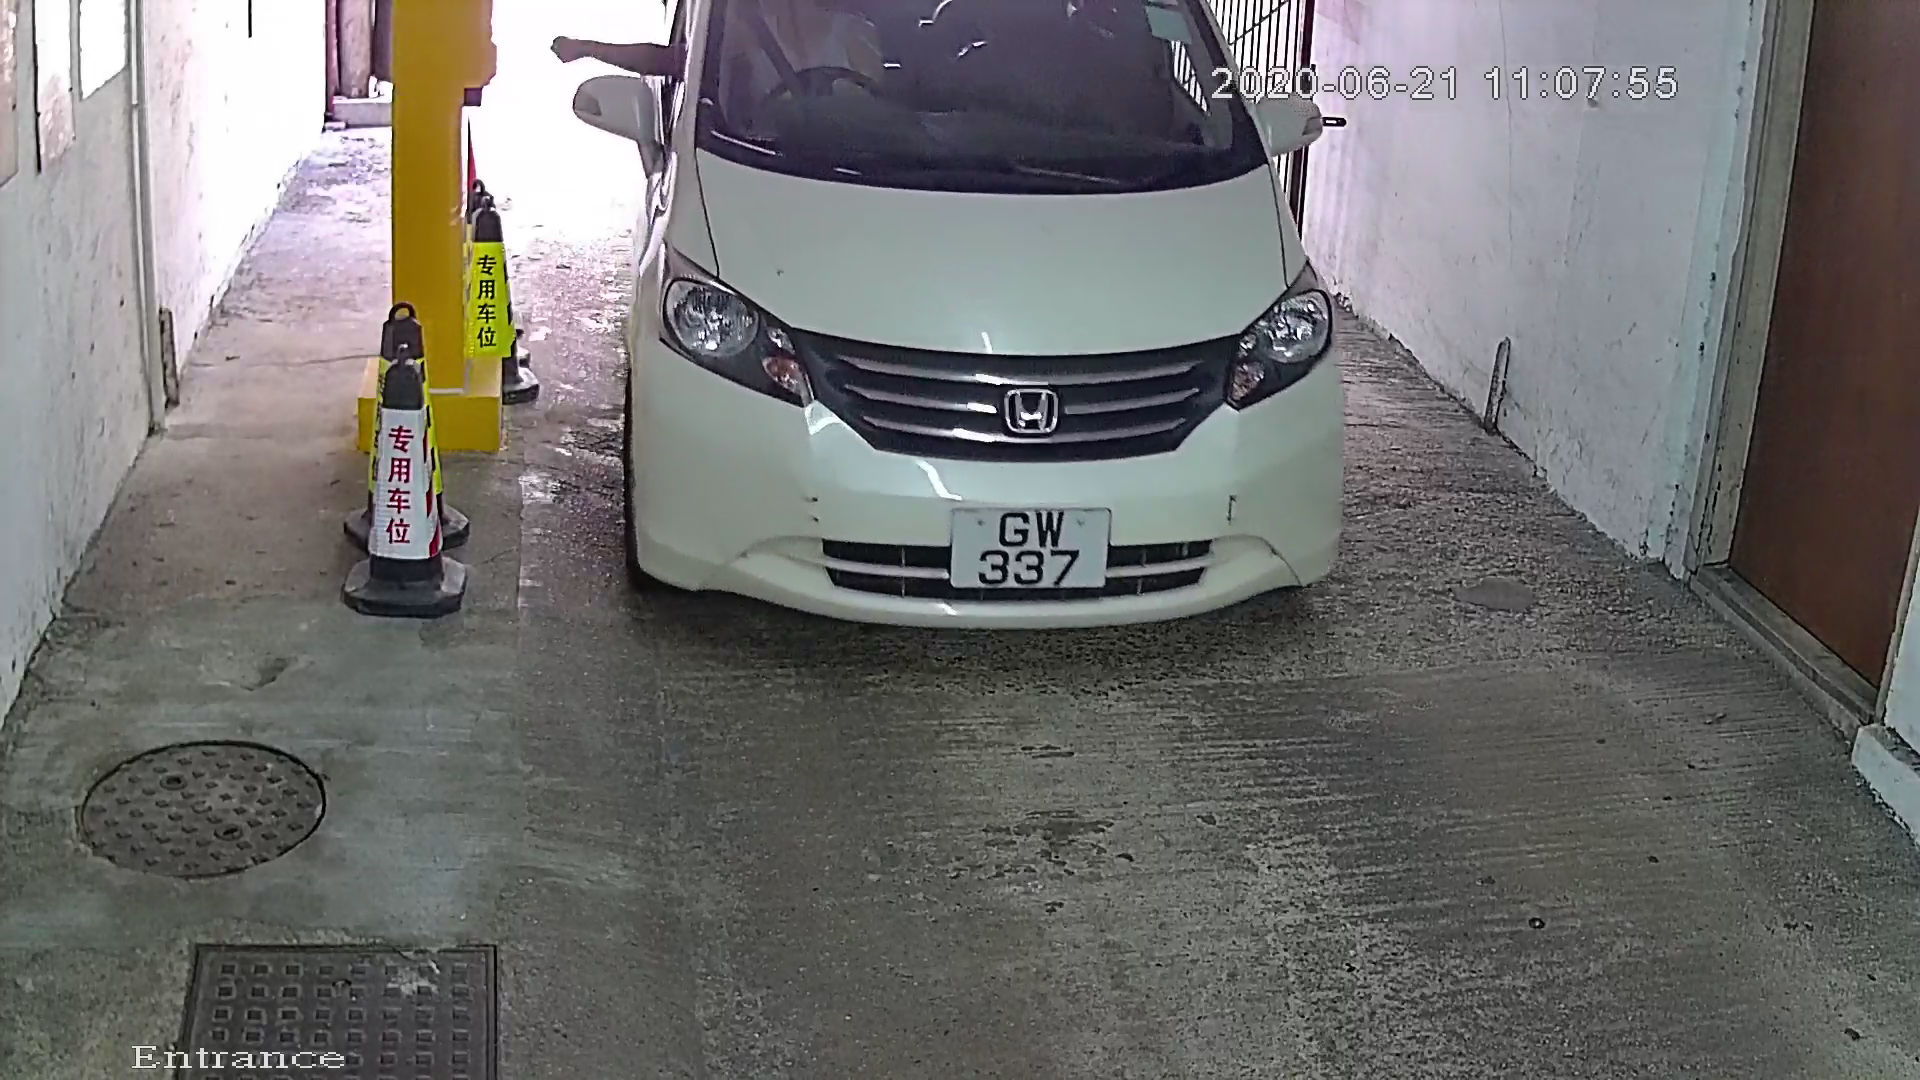privatecar: (555, 3, 1378, 655)
